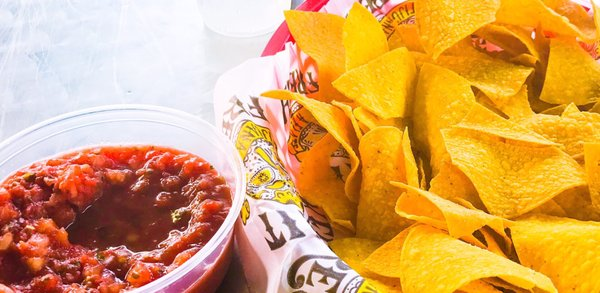pizza: (199, 1, 285, 37)
sushi: (0, 108, 244, 291)
